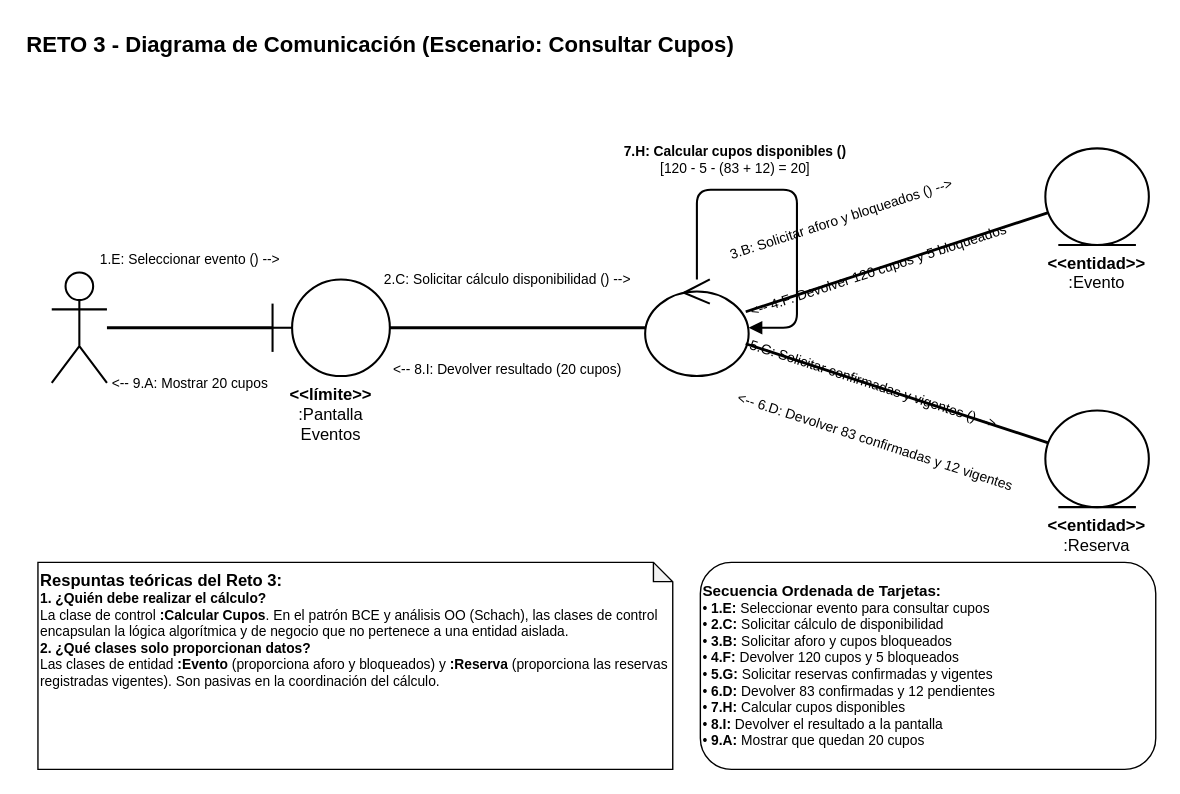
Some shapes in this 1180 by 794 pixel diagram are drawn without their labels. Each missing label, with the centre of its shape:
<<actor>> :Estudiante: (x=78, y=327)
<<control>> :Calcular Cupos: (x=696, y=327)
